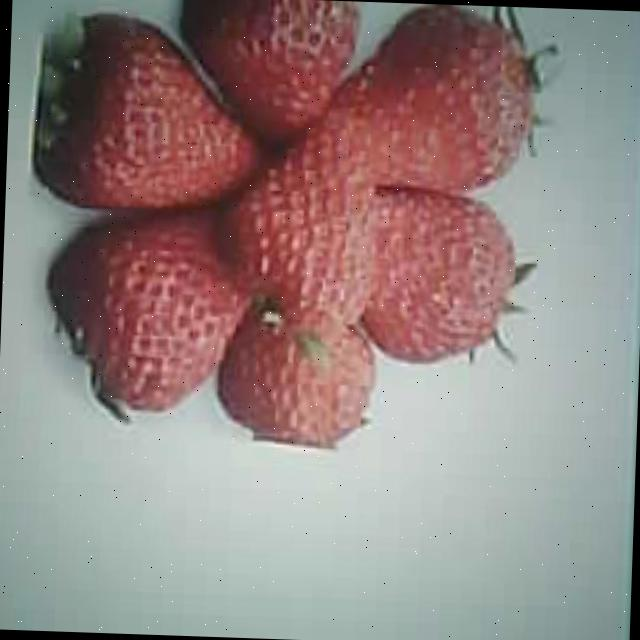strawberry: (46, 210, 248, 415), (46, 14, 250, 212), (334, 2, 536, 197), (226, 111, 376, 324), (368, 188, 515, 363)
